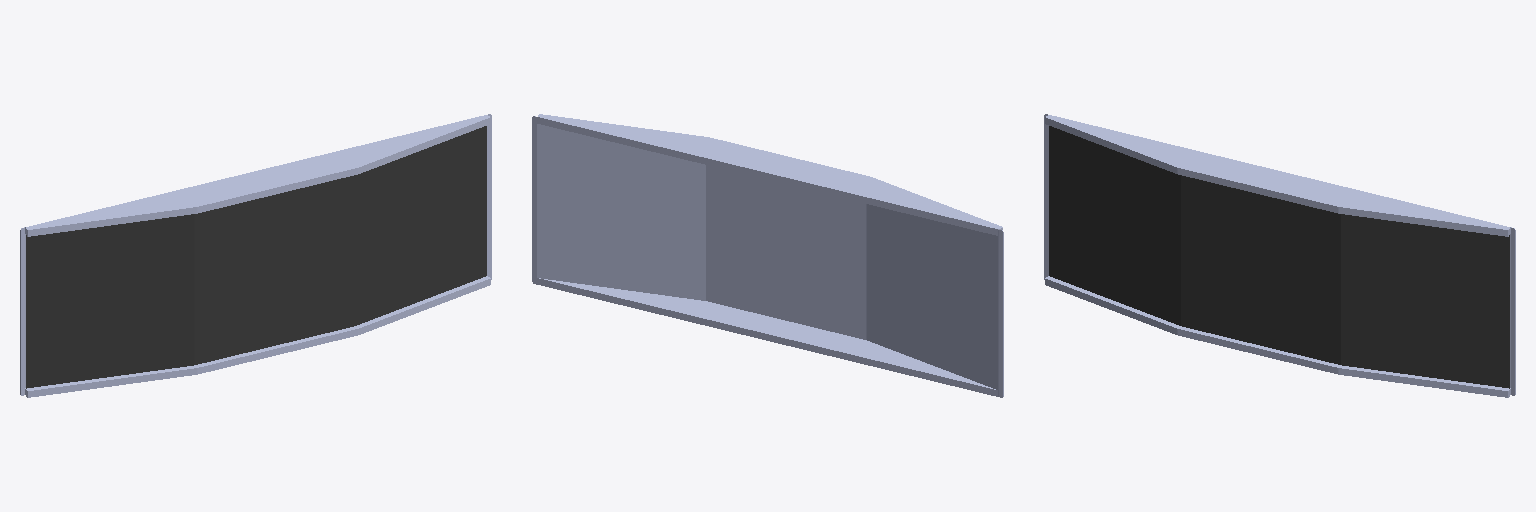
robot.urdf — slope2:
<?xml version="1.0" encoding="utf-8"?>
<!-- This URDF was automatically created by SolidWorks to URDF Exporter! Originally created by [author] ([email redacted]) 
     Commit Version: 1.6.0-4-g7f85cfe  Build Version: 1.6.7995.38578
     For more information, please see http://wiki.ros.org/sw_urdf_exporter -->
<robot
  name="slope2">
  <link
    name="base_link">
    <inertial>
      <origin
        xyz="-0.140312444011041 0.0406896282287972 -0.0455942620430078"
        rpy="0 0 0" />
      <mass
        value="45.7809789080786" />
      <inertia
        ixx="9.88051098086247"
        ixy="4.08214893060938E-12"
        ixz="9.46261351854374E-13"
        iyy="22.6737326644668"
        iyz="-8.3449645673351E-13"
        izz="32.1471749189845" />
    </inertial>
    <visual>
      <origin
        xyz="0 0 0"
        rpy="0 0 0" />
      <geometry>
        <mesh
          filename="package://slope2/meshes/base_link.STL" />
      </geometry>
      <material
        name="">
        <color
          rgba="0.792156862745098 0.819607843137255 0.933333333333333 1" />
      </material>
    </visual>
    <collision>
      <origin
        xyz="0 0 0"
        rpy="0 0 0" />
      <geometry>
        <mesh
          filename="package://slope2/meshes/base_link.STL" />
      </geometry>
    </collision>
  </link>
  <link
    name="block">
    <inertial>
      <origin
        xyz="1.4684 0.5 0.13501"
        rpy="0 0 0" />
      <mass
        value="5.3689" />
      <inertia
        ixx="0.4024"
        ixy="7.3518E-13"
        ixz="-0.00015733"
        iyy="3.7492"
        iyz="-7.22E-14"
        izz="4.1041" />
    </inertial>
    <visual>
      <origin
        xyz="0 0 0"
        rpy="0 0 0" />
      <geometry>
        <mesh
          filename="package://slope2/meshes/block.STL" />
      </geometry>
      <material
        name="">
        <color
          rgba="0.3 0.3 0.3 1" />
      </material>
    </visual>
    <collision>
      <origin
        xyz="0 0 0"
        rpy="0 0 0" />
      <geometry>
        <mesh
          filename="package://slope2/meshes/block.STL" />
      </geometry>
    </collision>
  </link>
  <joint
    name="j1"
    type="fixed">
    <origin
      xyz="-1.60919340721111 0.147466128390666 -0.459310371771112"
      rpy="1.5707963267949 0 0" />
    <parent
      link="base_link" />
    <child
      link="block" />
    <axis
      xyz="0 0 0" />
  </joint>
</robot>

--- Render facts (derived) ---
3 views of the same robot in one strip: view 1: azimuth 30°, elevation 25°; view 2: azimuth 150°, elevation 25°; view 3: azimuth 330°, elevation 25° (orthographic).
Model slope2 with 2 links and 1 joints (1 fixed), rooted at base_link, posed all joints at 0.
Visible links, largest first — view 1: block, base_link; view 2: base_link; view 3: block, base_link.
Boxes of the visible links, box(x1,y1,x2,y2) form: block: box(26, 126, 486, 388); base_link: box(20, 114, 491, 397); base_link: box(532, 114, 1003, 397); block: box(1049, 126, 1509, 388); base_link: box(1044, 114, 1515, 397).
Bounding box of the posed robot: 2.94 × 0.2396 × 1 m (x, y, z).
Meshes: 2 distinct files referenced, 2 mesh visuals loaded (2 binary STL).